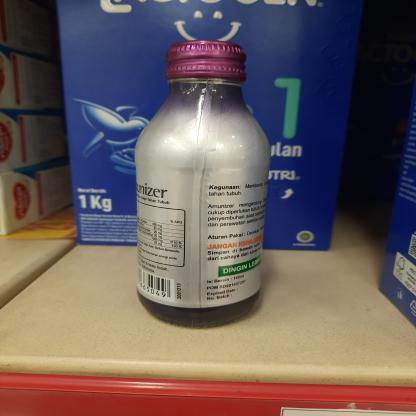glass: (133, 35, 273, 329)
